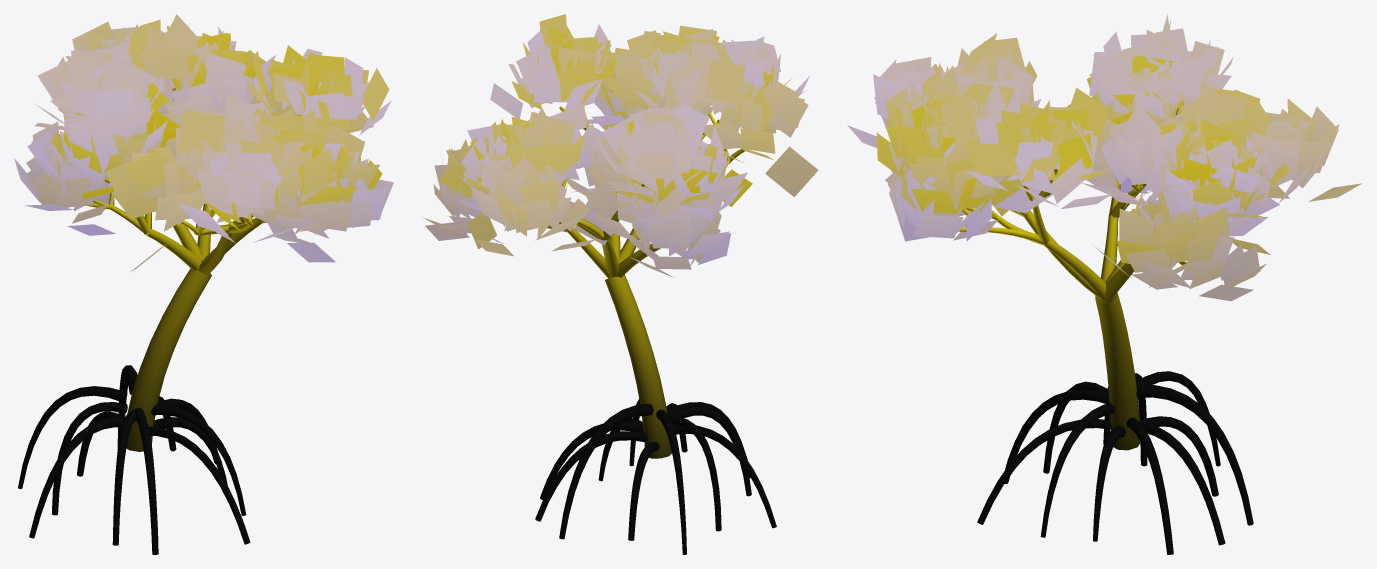
The model's file is mangrove_tree.glb.
3 views of the same model, side by side, from view 1: azimuth 30°, elevation 25°; view 2: azimuth 150°, elevation 25°; view 3: azimuth 270°, elevation 25° (orthographic). The views are drawn at different scales.
Parts seen in each view (by area): view 1: mangrove_tree; view 2: mangrove_tree; view 3: mangrove_tree.
Part boxes in pixels (x1,y1,x2,y2): mangrove_tree: (14,14,393,554); mangrove_tree: (423,14,818,554); mangrove_tree: (847,14,1362,554).
Size of what is drawn, in the model's own units: 8.34 by 10.53 by 10.56.
